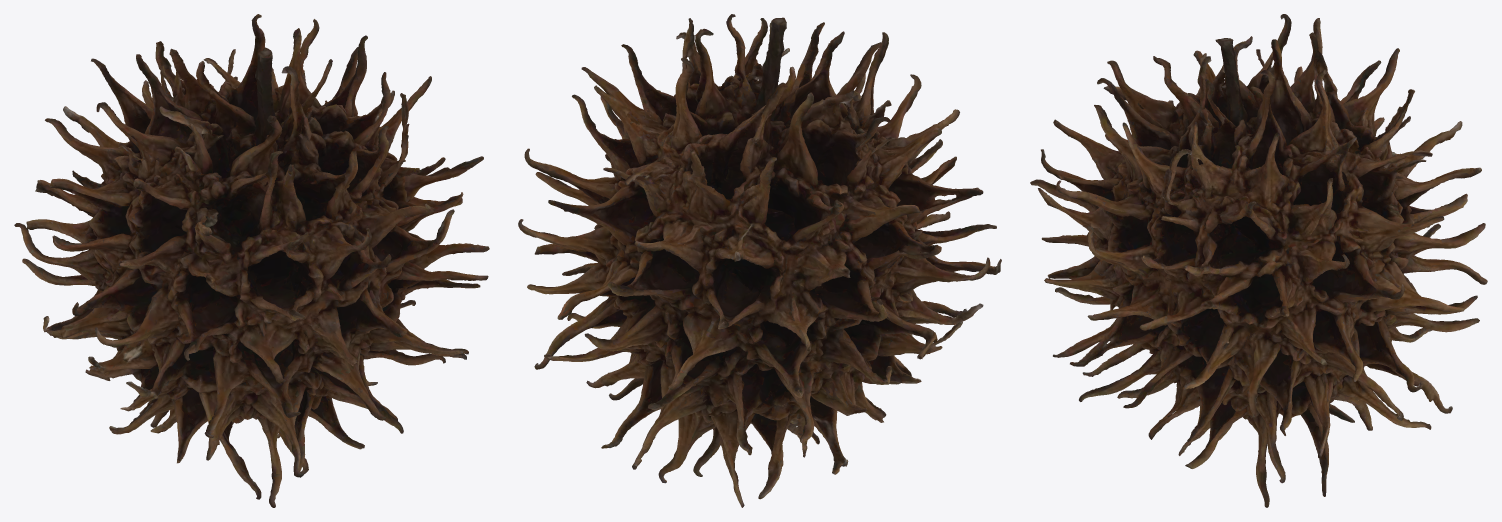
Rendered from 静物_水果_sweet_gum_tree_fruit_opt.glb.
3 views of the same model, side by side, from view 1: azimuth 30°, elevation 25°; view 2: azimuth 150°, elevation 25°; view 3: azimuth 270°, elevation 25° (orthographic). The views are drawn at different scales.
Parts seen in each view (by area): view 1: default_0; view 2: default_0; view 3: default_0.
Part boxes in pixels (x1,y1,x2,y2): default_0: (14, 14, 489, 507); default_0: (518, 14, 1001, 507); default_0: (1030, 14, 1487, 507).
Bounding box in the file's own units: 0.095 × 0.1 × 0.0938.
1 material, 1 textured.
